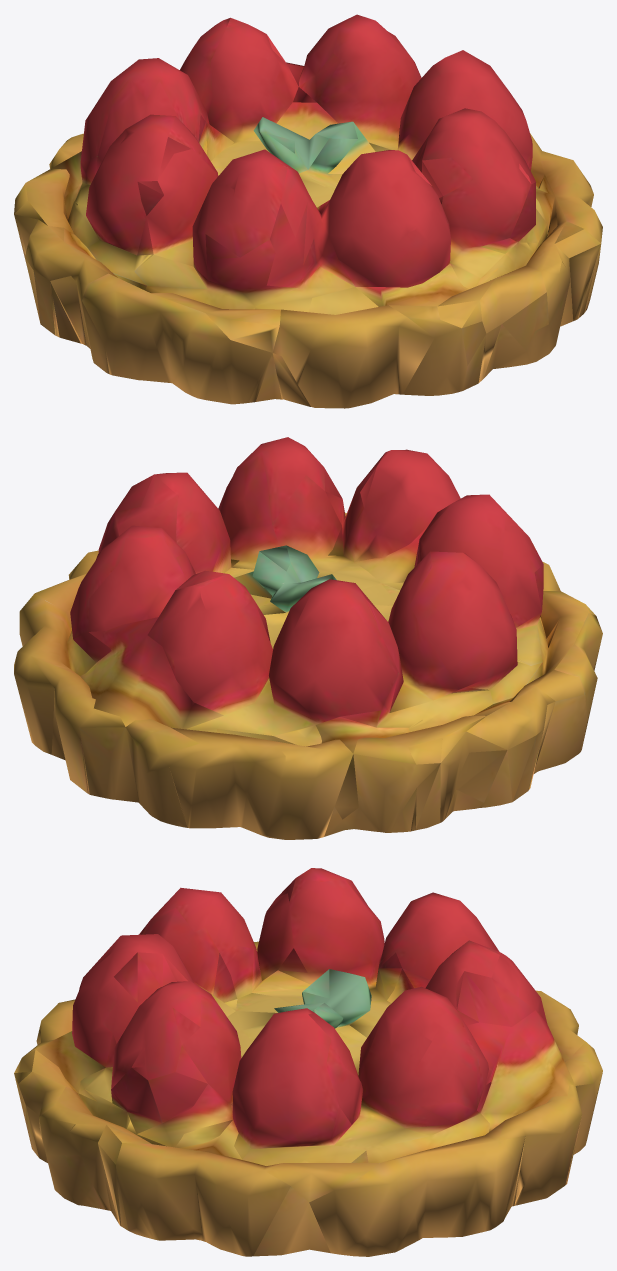
Rendered from FR_사물_s5_food_tier2_strawberry_tart.glb.
3 renders of one model, top to bottom at view 1: azimuth 30°, elevation 25°; view 2: azimuth 150°, elevation 25°; view 3: azimuth 270°, elevation 25°, orthographic. The views are drawn at different scales.
Visible parts, largest first — view 1: tripo_node_67378a6a-14e2-43c6-9c65-7df1a9b39e2f; view 2: tripo_node_67378a6a-14e2-43c6-9c65-7df1a9b39e2f; view 3: tripo_node_67378a6a-14e2-43c6-9c65-7df1a9b39e2f.
Part boxes in pixels (box(x1,y1,x2,y2)): tripo_node_67378a6a-14e2-43c6-9c65-7df1a9b39e2f: box(14, 14, 602, 408); tripo_node_67378a6a-14e2-43c6-9c65-7df1a9b39e2f: box(14, 437, 602, 839); tripo_node_67378a6a-14e2-43c6-9c65-7df1a9b39e2f: box(14, 868, 602, 1256).
Size of the model in its own units: 0.3915 by 0.1528 by 0.4036.
1 material, 1 textured.
